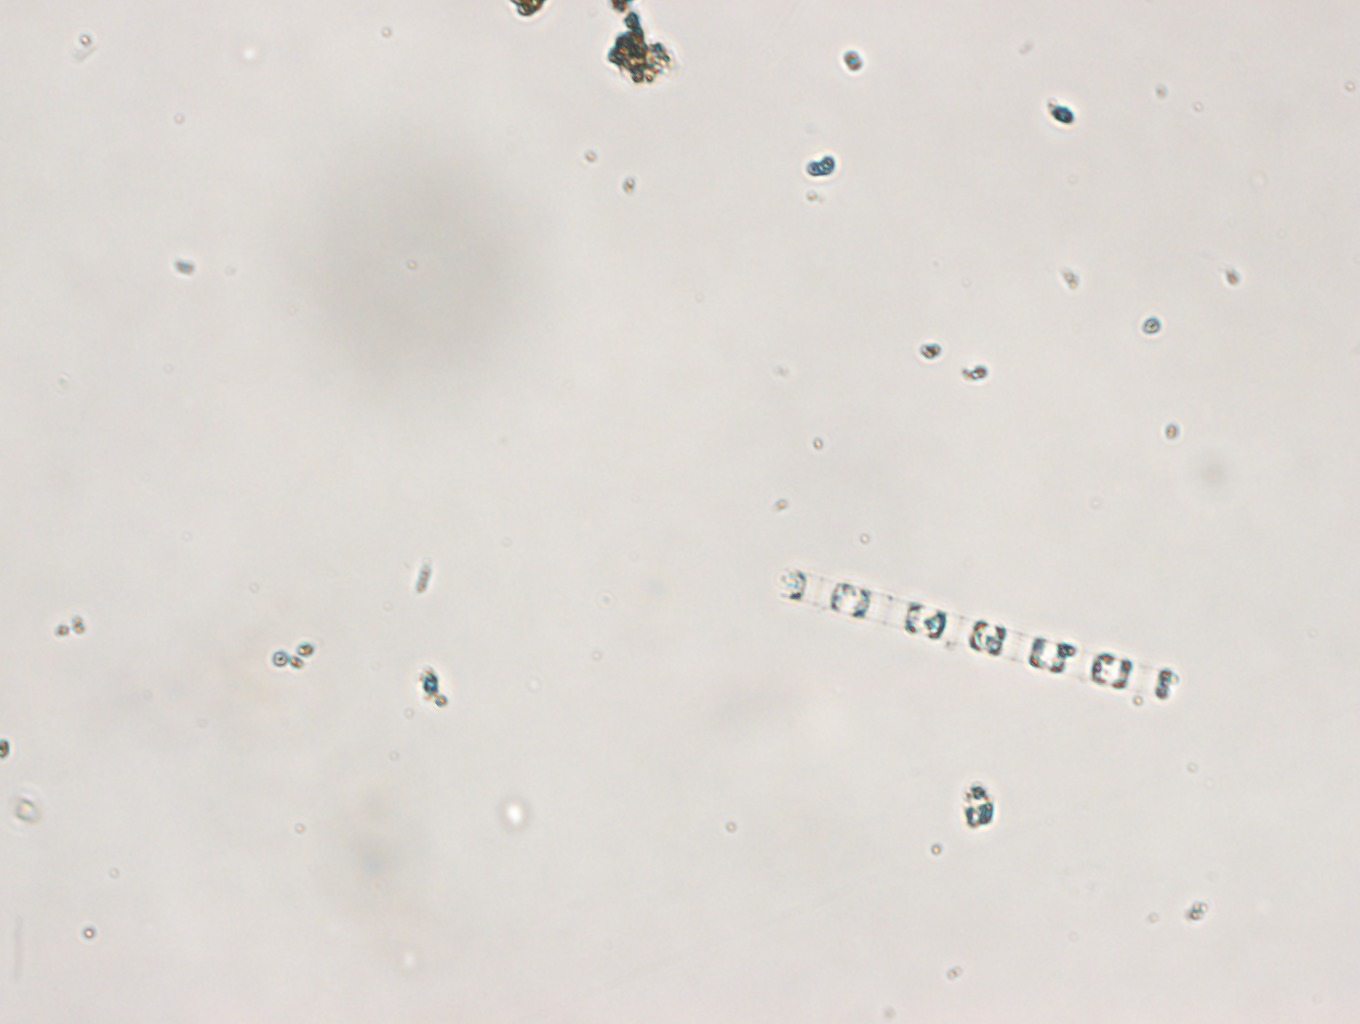skeletonema: (772, 559, 1198, 711)
